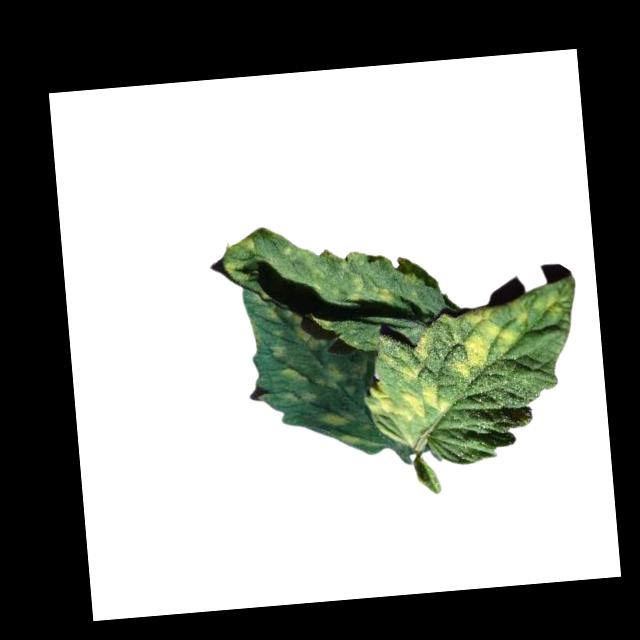Leaf_Mold: (444, 297, 534, 380), (364, 377, 453, 426), (393, 326, 433, 382), (288, 309, 330, 352), (313, 360, 345, 393), (318, 405, 354, 429), (280, 363, 309, 385), (376, 285, 396, 303), (238, 232, 256, 250)
